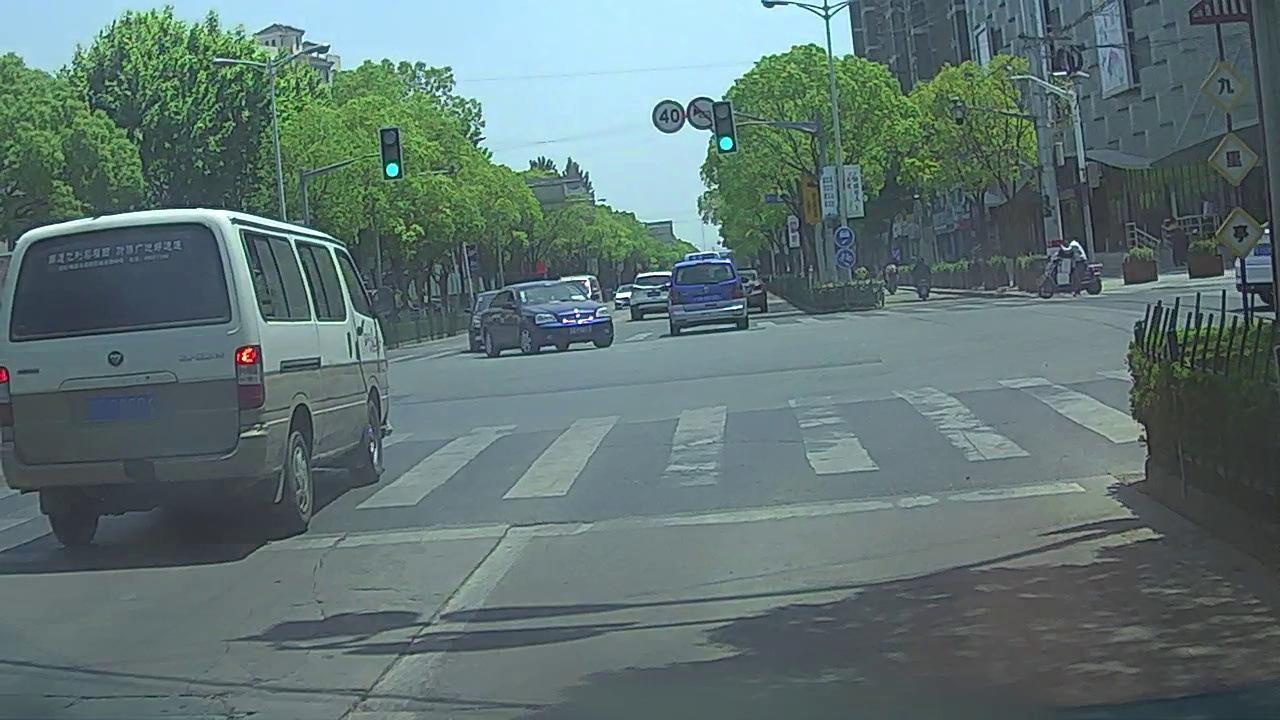traffic_light: (380, 129, 401, 179), (714, 103, 735, 153)
